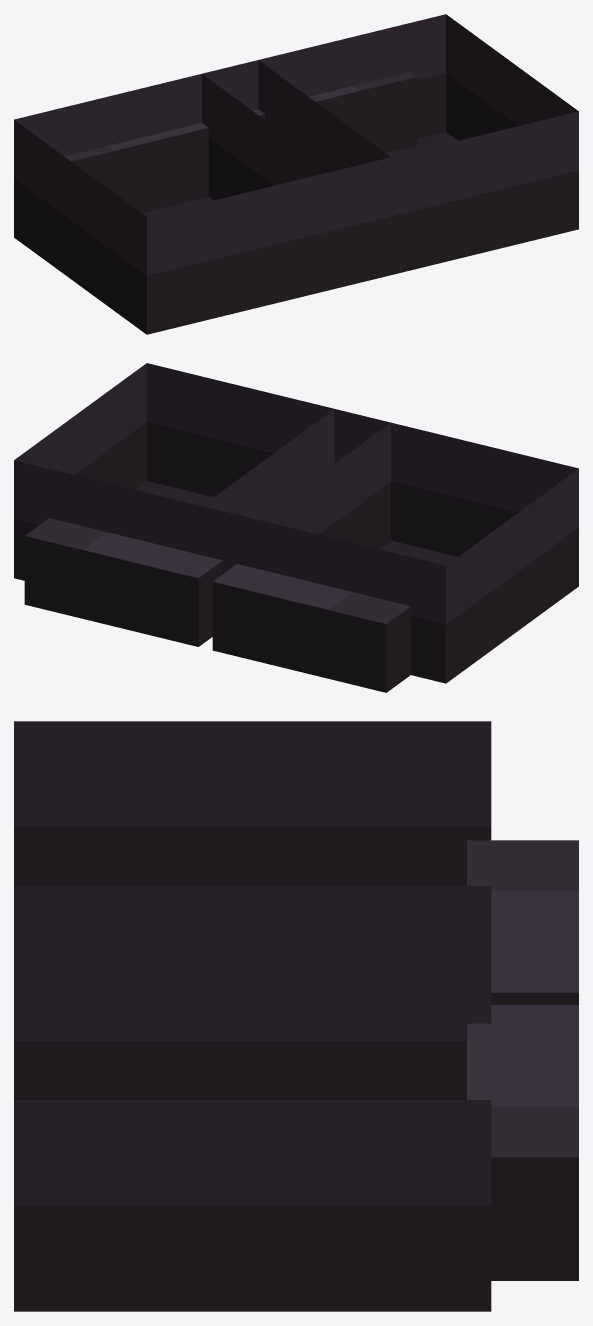
Rendered from priest_boots.glb.
3 views of the same model, one above another, from view 1: azimuth 30°, elevation 25°; view 2: azimuth 150°, elevation 25°; view 3: azimuth 270°, elevation 25° (orthographic). The views are drawn at different scales.
Size of the model in its own units: 0.575 by 0.15 by 0.3625.
1 material, 1 textured.
